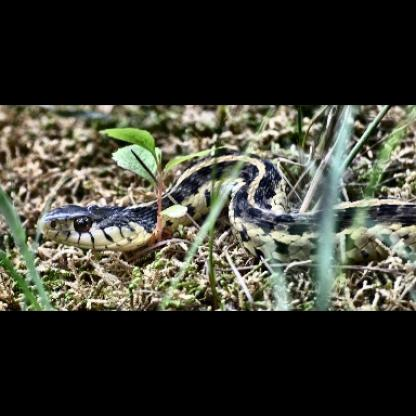Snake: (34, 146, 416, 248)
